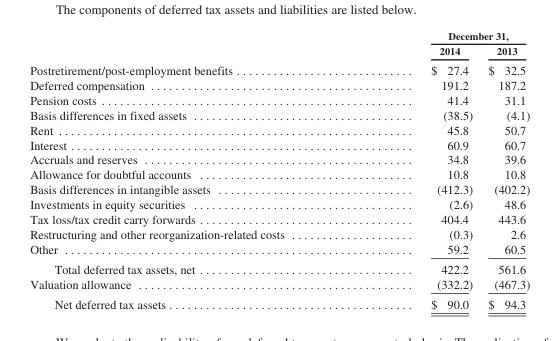table: (29, 29, 529, 310)
table column: (29, 29, 357, 310), (357, 29, 479, 310), (479, 29, 529, 310)
table column header: (29, 29, 529, 59)
table row: (29, 59, 529, 77), (29, 275, 529, 293), (29, 42, 529, 59), (29, 241, 529, 258), (29, 258, 529, 275), (29, 293, 529, 310), (29, 77, 529, 92), (29, 92, 529, 107), (29, 107, 529, 122), (29, 122, 529, 137), (29, 151, 529, 166), (29, 166, 529, 181), (29, 181, 529, 196), (29, 196, 529, 211), (29, 211, 529, 226), (29, 226, 529, 241), (29, 137, 529, 151), (29, 29, 529, 42)
table spanning cell: (357, 29, 529, 42)
